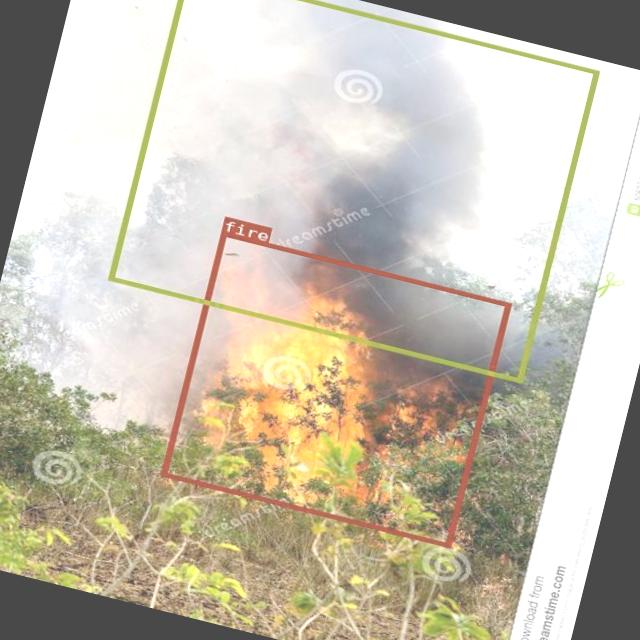fire: (159, 229, 510, 546)
smoke: (107, 0, 599, 382)
